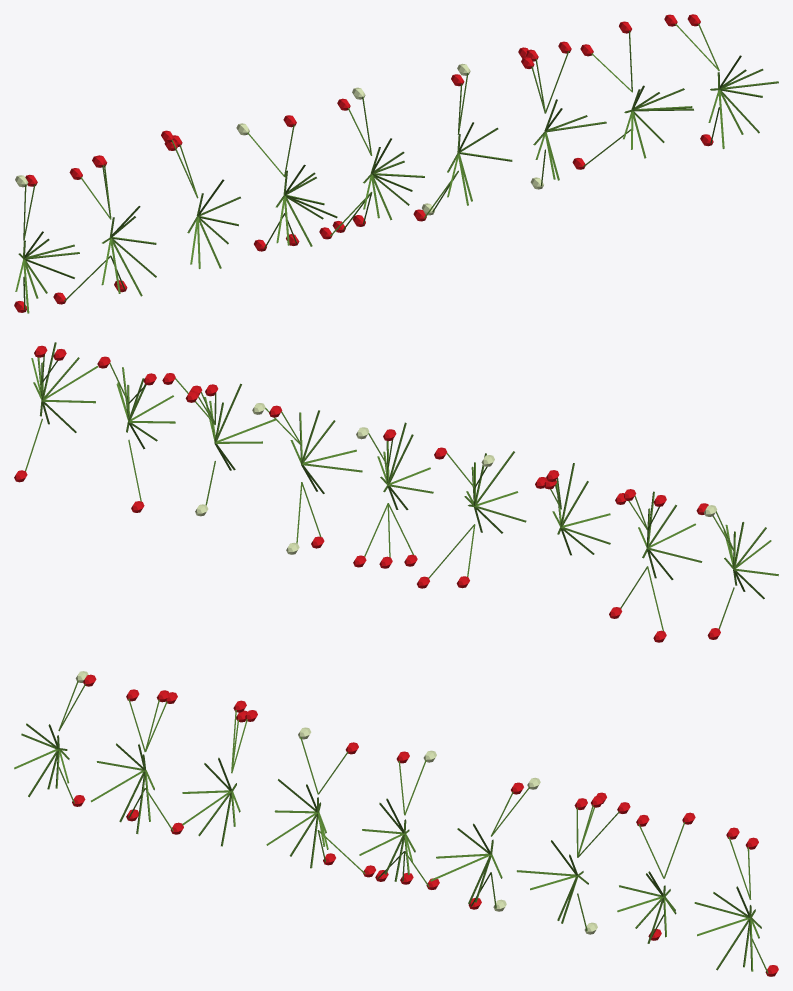
File: r31c1_rest.obj
3 renders of one model, top to bottom at view 1: azimuth 30°, elevation 25°; view 2: azimuth 150°, elevation 25°; view 3: azimuth 330°, elevation 25°, orthographic.
Visible parts, largest first — view 1: r31c1_rest; view 2: r31c1_rest; view 3: r31c1_rest.
Boxes of the visible parts, x1=… form: r31c1_rest: x1=14, y1=14, x2=778, y2=313; r31c1_rest: x1=14, y1=342, x2=778, y2=642; r31c1_rest: x1=14, y1=671, x2=778, y2=976.
Size of the model in its own units: 2.18 by 0.4035 by 0.259.
